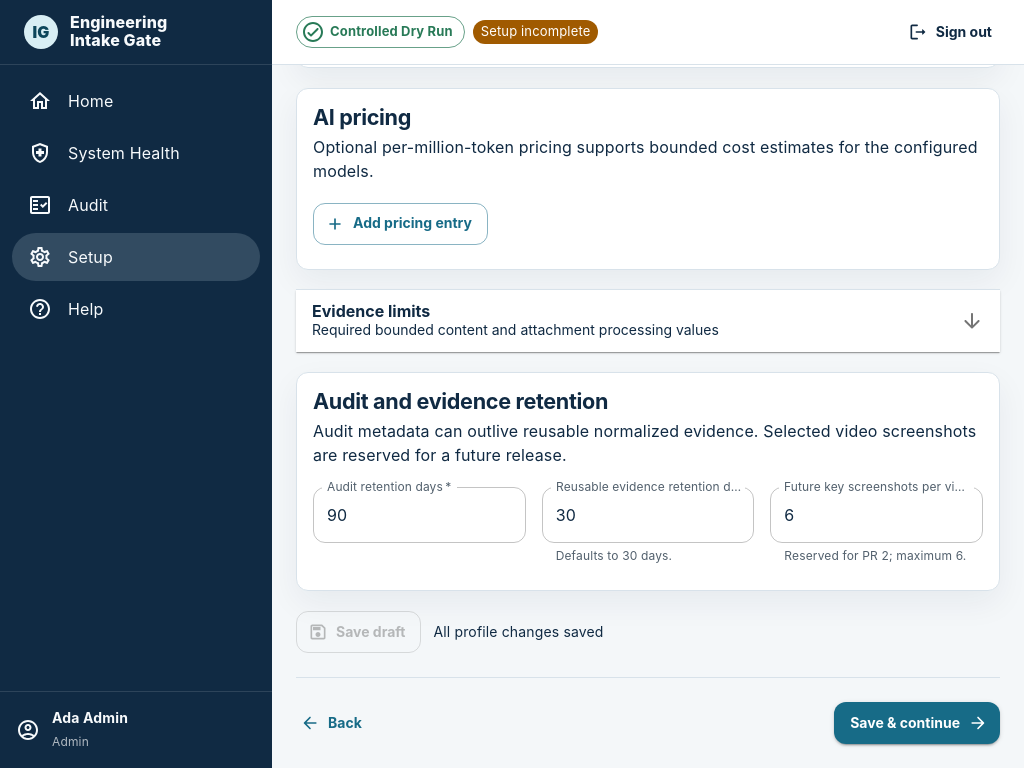
UI-014 actionable validation summary and inline errors have no automated axe violations
This screenshot has width=1024, height=768.
(page scrolled)
Click the button "Save & continue": click(917, 723) [834,702,1000,744]
(page scrolled)
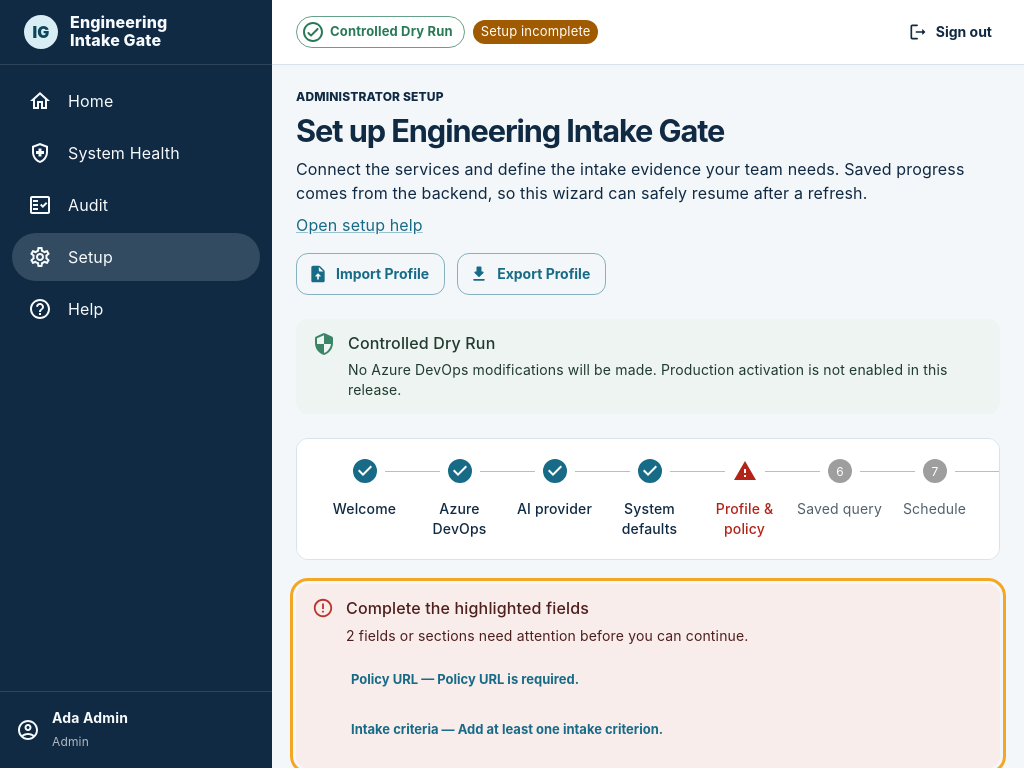
Expected: the text "Complete the highlighted fields" is shown, [346,598,589,618]
